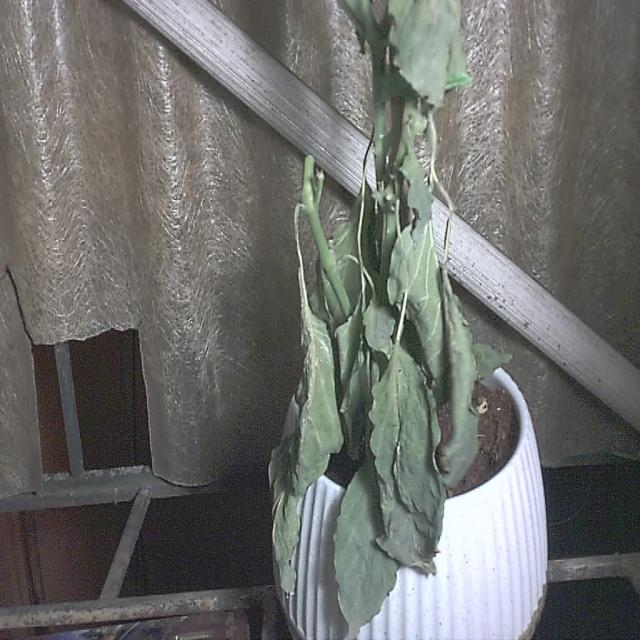Leaf: (374, 347, 444, 577), (388, 206, 457, 403), (333, 464, 398, 636), (290, 308, 342, 493), (268, 430, 302, 598)
